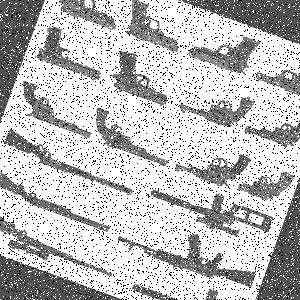SMG: (119, 260, 252, 300)
handgun: (6, 77, 102, 147), (170, 71, 258, 141), (25, 24, 110, 91), (90, 105, 176, 170), (184, 17, 264, 82), (170, 130, 250, 194), (106, 47, 178, 113), (118, 0, 193, 58), (238, 96, 300, 158), (248, 43, 300, 110), (232, 158, 294, 209)
rifle: (111, 205, 265, 300), (0, 125, 152, 207), (141, 168, 280, 250), (0, 165, 124, 243)
sniper: (0, 204, 121, 285)
